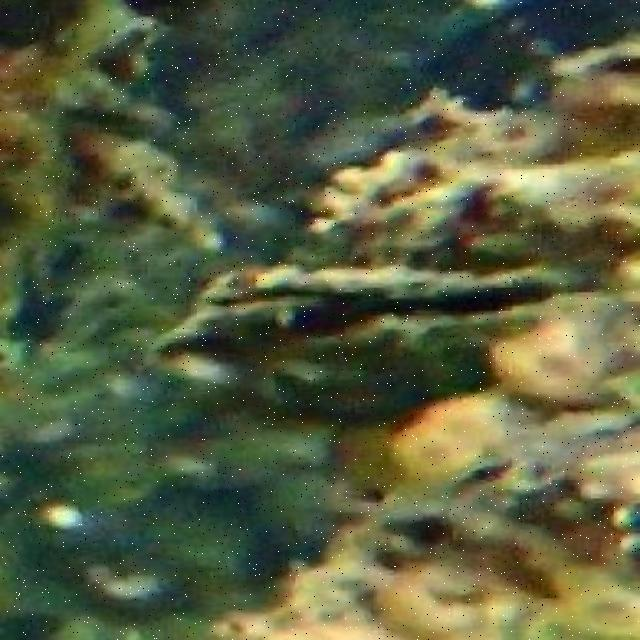Oyster-Open: (198, 264, 579, 415)
